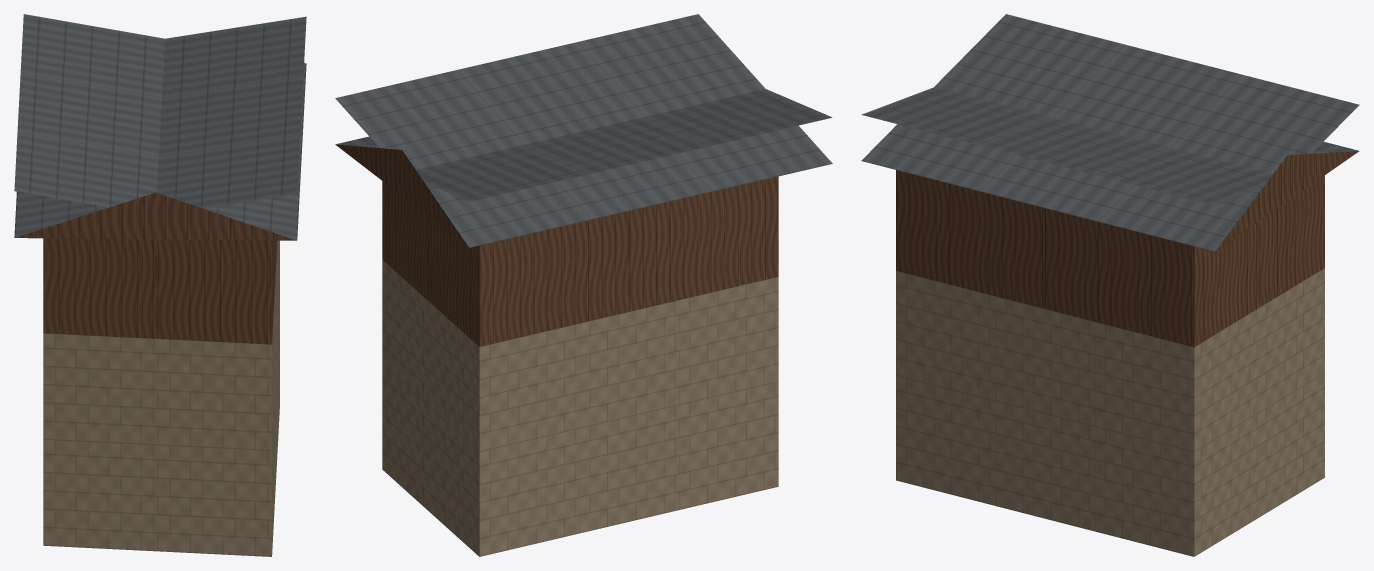
The model's file is bld_c24_-37_574.gltf.
3 views of the same model, side by side, from view 1: azimuth 30°, elevation 25°; view 2: azimuth 150°, elevation 25°; view 3: azimuth 270°, elevation 25° (orthographic).
Parts seen in each view (by area): view 1: bld_c24_-37_574; view 2: bld_c24_-37_574; view 3: bld_c24_-37_574.
Part boxes in pixels (x1,y1,x2,y2): bld_c24_-37_574: [14, 14, 306, 556]; bld_c24_-37_574: [335, 14, 832, 556]; bld_c24_-37_574: [861, 14, 1359, 556].
Bounding box in the file's own units: 8.9 × 8 × 9.79.
Materials: 4 (4 with a texture image).
